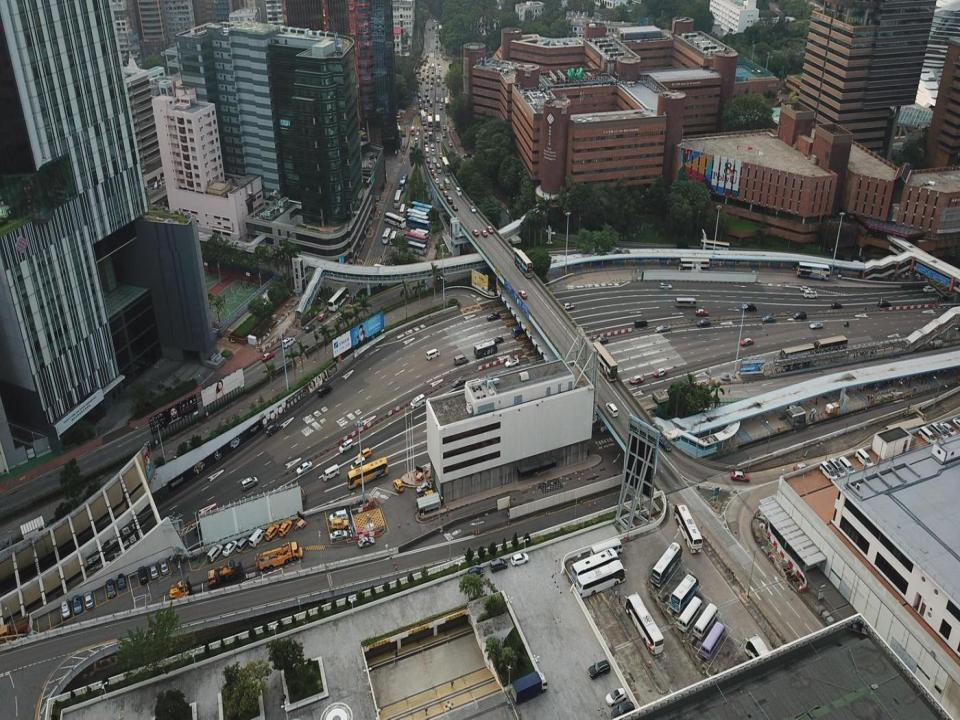bus: (623, 591, 664, 656), (744, 634, 782, 693), (576, 559, 628, 598), (571, 547, 619, 583), (673, 502, 703, 554), (650, 542, 682, 586), (347, 456, 389, 489), (670, 573, 700, 613), (885, 417, 926, 446), (590, 342, 617, 382), (700, 621, 725, 660), (693, 602, 718, 639), (677, 596, 702, 631), (813, 334, 848, 358), (779, 342, 814, 364), (589, 537, 623, 559), (514, 249, 533, 278), (328, 286, 349, 312), (700, 237, 730, 255), (678, 257, 710, 273), (410, 200, 433, 220), (399, 238, 426, 255), (400, 235, 426, 252), (404, 231, 426, 250), (405, 207, 429, 224), (475, 340, 497, 358), (370, 263, 393, 279), (406, 217, 430, 232), (384, 212, 406, 228), (406, 212, 428, 228), (406, 229, 426, 246), (411, 205, 430, 221), (512, 324, 530, 338), (674, 297, 696, 308), (441, 156, 450, 175), (415, 229, 428, 242), (399, 173, 408, 191), (382, 227, 391, 245), (394, 189, 402, 208), (389, 230, 398, 246), (434, 113, 440, 131), (420, 110, 426, 125), (428, 114, 433, 131), (399, 204, 405, 218), (444, 177, 450, 190), (435, 162, 441, 174), (445, 96, 449, 112), (410, 125, 415, 136), (437, 72, 441, 82), (425, 147, 429, 156), (429, 132, 433, 140), (437, 78, 440, 88), (430, 148, 434, 154)
car: (605, 687, 627, 706), (612, 701, 635, 719), (940, 420, 957, 438), (196, 515, 210, 534), (222, 540, 237, 557), (510, 553, 529, 566), (296, 460, 312, 474), (330, 529, 347, 542), (730, 470, 750, 481), (357, 536, 375, 548), (658, 436, 672, 451), (416, 482, 432, 494), (106, 578, 115, 598), (159, 558, 169, 576), (84, 592, 94, 609), (793, 463, 810, 472), (629, 374, 644, 384), (504, 358, 519, 368), (149, 562, 158, 578), (653, 368, 667, 378), (138, 566, 146, 583), (487, 312, 500, 322), (452, 378, 465, 388), (261, 352, 274, 362), (952, 418, 960, 433), (742, 302, 757, 310), (559, 302, 574, 310), (740, 337, 753, 346), (697, 318, 710, 327), (761, 315, 775, 323), (656, 324, 670, 332), (118, 574, 125, 589), (595, 336, 608, 344), (318, 312, 328, 322), (831, 302, 843, 310), (922, 285, 935, 292), (492, 336, 503, 344), (304, 324, 315, 332), (878, 301, 891, 307), (809, 322, 822, 328), (800, 285, 811, 292), (660, 282, 671, 289), (696, 309, 708, 315), (518, 290, 527, 298), (480, 229, 488, 237), (506, 208, 515, 215), (487, 225, 493, 235), (472, 229, 479, 237), (470, 205, 476, 213), (442, 191, 448, 197), (451, 205, 458, 210), (434, 177, 439, 184), (432, 157, 436, 164), (438, 185, 444, 189), (428, 164, 432, 170), (426, 157, 430, 163), (442, 124, 446, 130), (433, 174, 437, 179), (431, 169, 435, 174), (436, 137, 440, 142), (442, 132, 446, 137), (448, 141, 452, 146), (439, 104, 442, 110), (439, 153, 441, 158), (441, 97, 443, 102), (431, 143, 433, 147), (436, 97, 438, 101)
truck: (255, 541, 303, 571), (511, 670, 548, 704), (207, 560, 243, 589), (416, 489, 434, 504)
van: (588, 659, 610, 679), (819, 461, 838, 481), (856, 448, 874, 468), (839, 455, 855, 477), (828, 459, 846, 478), (918, 427, 937, 445), (929, 422, 948, 440), (264, 523, 281, 542), (207, 544, 224, 562), (322, 464, 340, 481), (249, 528, 265, 546), (490, 557, 508, 573), (236, 535, 251, 553), (278, 519, 292, 537), (241, 476, 258, 490), (410, 394, 425, 408), (339, 438, 354, 452), (605, 401, 618, 417), (332, 518, 348, 531), (350, 457, 365, 470), (317, 384, 332, 397), (467, 566, 483, 578), (329, 510, 346, 521), (357, 446, 371, 459), (266, 423, 280, 436), (60, 599, 70, 617), (72, 595, 82, 613), (426, 348, 440, 360), (283, 336, 296, 348), (393, 479, 404, 493), (454, 354, 468, 364), (635, 318, 648, 327), (804, 290, 817, 298), (794, 311, 806, 319), (677, 242, 688, 250), (455, 188, 462, 196), (447, 197, 453, 204)
